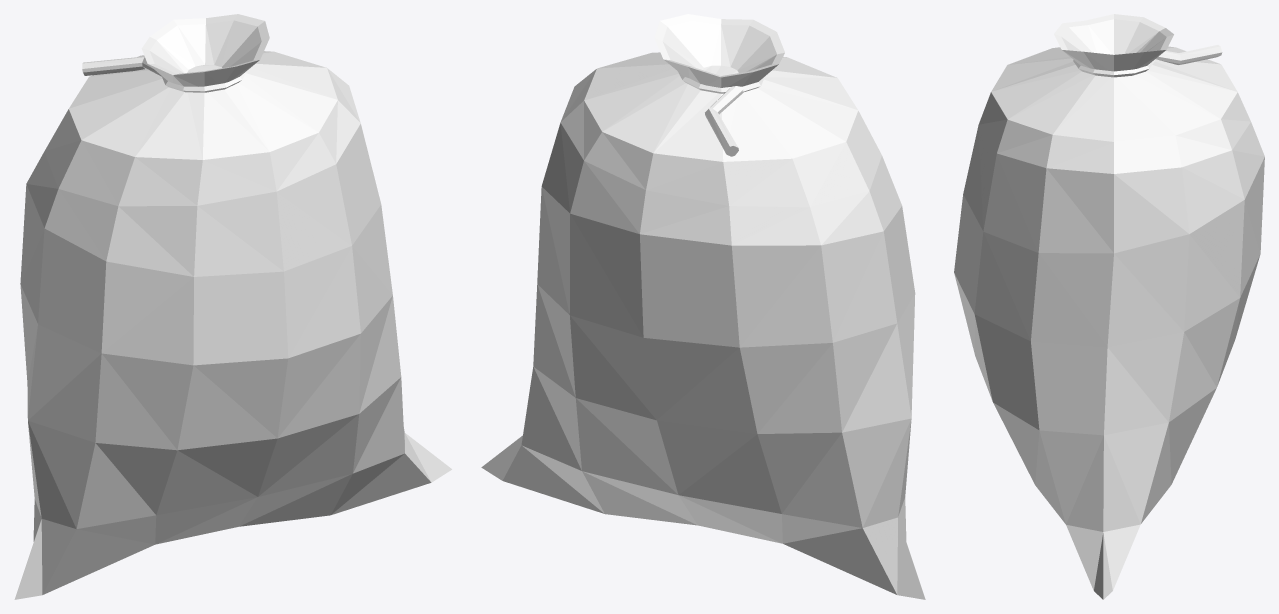
Rendered from Prop_Sack_02.glb.
3 renders of one model, left to right at view 1: azimuth 30°, elevation 25°; view 2: azimuth 150°, elevation 25°; view 3: azimuth 270°, elevation 25°, orthographic. The views are drawn at different scales.
Parts seen in each view (by area): view 1: Prop_Sack_02; view 2: Prop_Sack_02; view 3: Prop_Sack_02.
Part boxes in pixels (box(x1,y1,x2,y2)): Prop_Sack_02: box(14, 14, 451, 599); Prop_Sack_02: box(481, 14, 925, 599); Prop_Sack_02: box(954, 14, 1264, 599).
Size of the model in its own units: 0.5115 by 0.5717 by 0.3331.
1 material, 1 textured.
